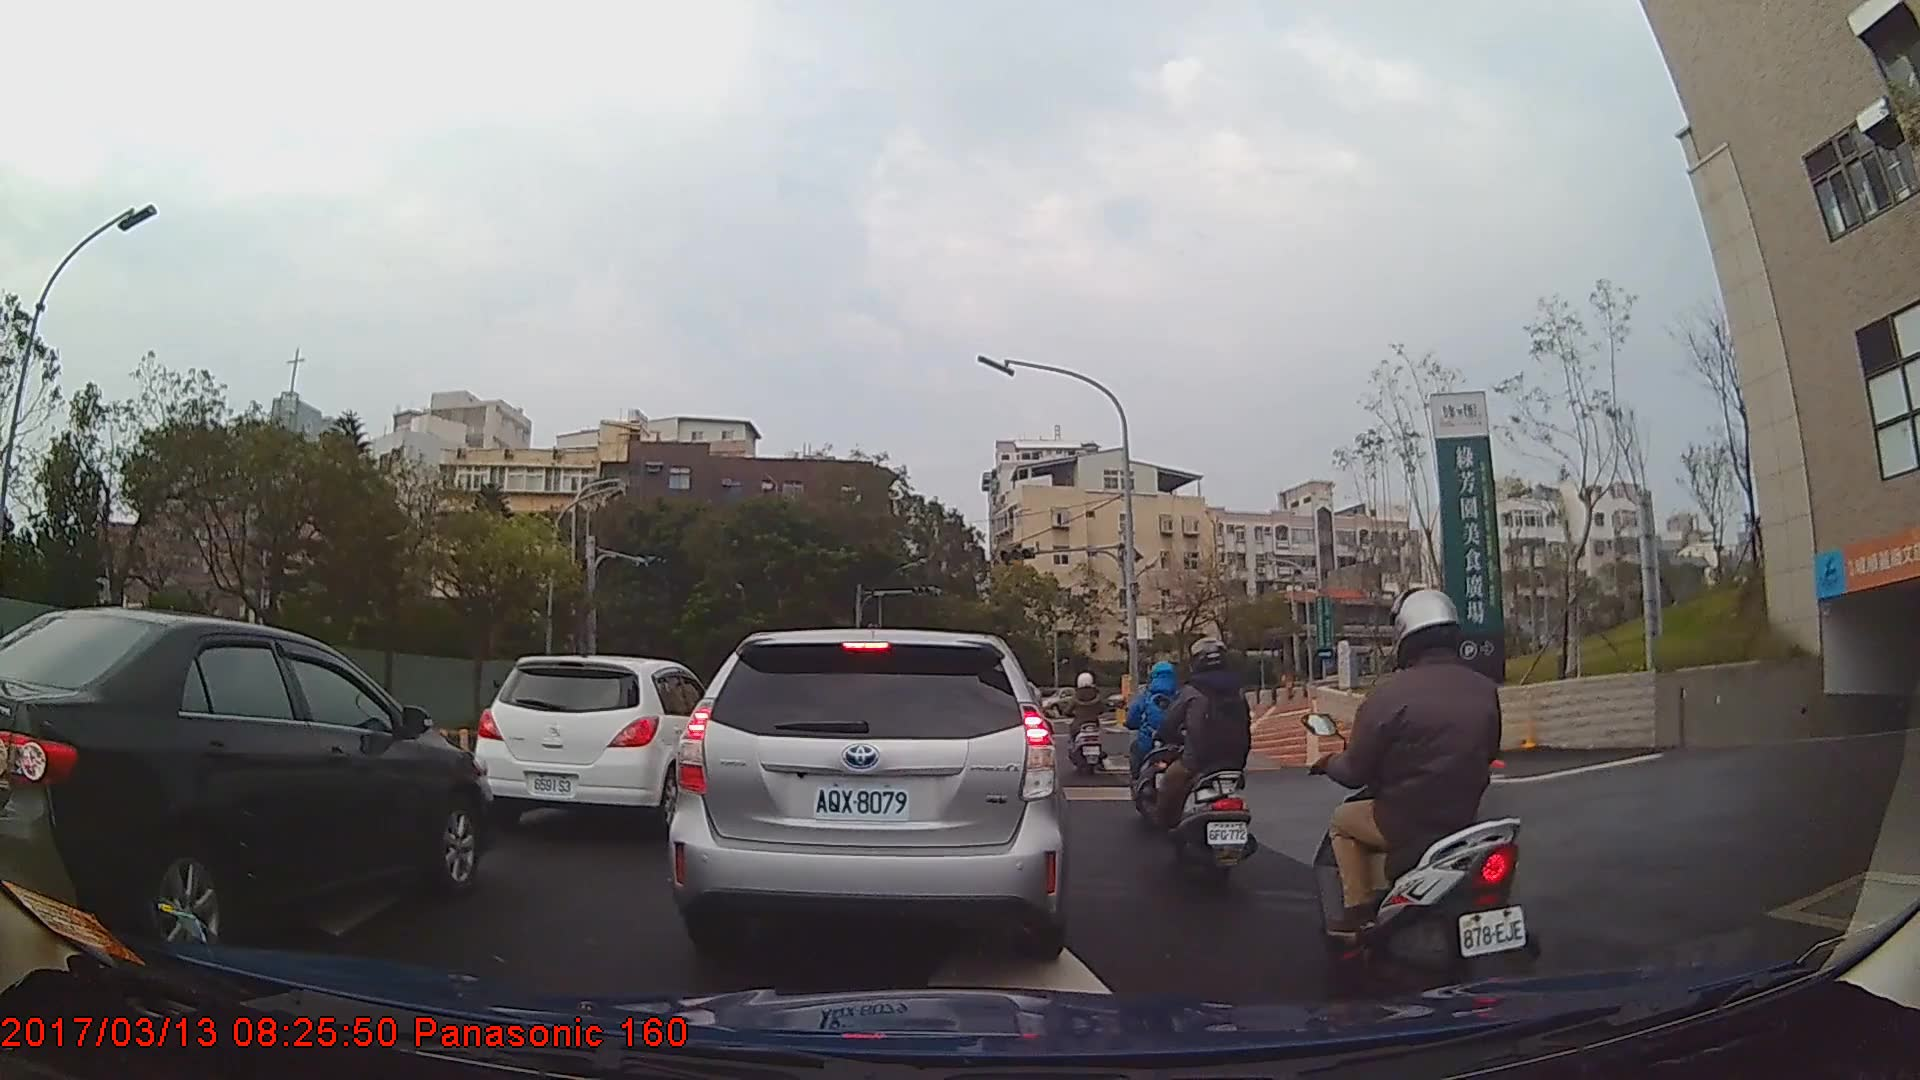rider: (1306, 585, 1540, 1004), (1154, 636, 1257, 884), (1117, 660, 1180, 822), (1064, 671, 1109, 777)
vehicle: (0, 604, 490, 962), (666, 626, 1065, 955), (473, 654, 719, 823)
